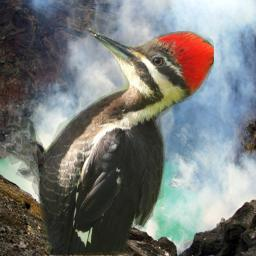Woodpecker: (6, 27, 214, 255)
